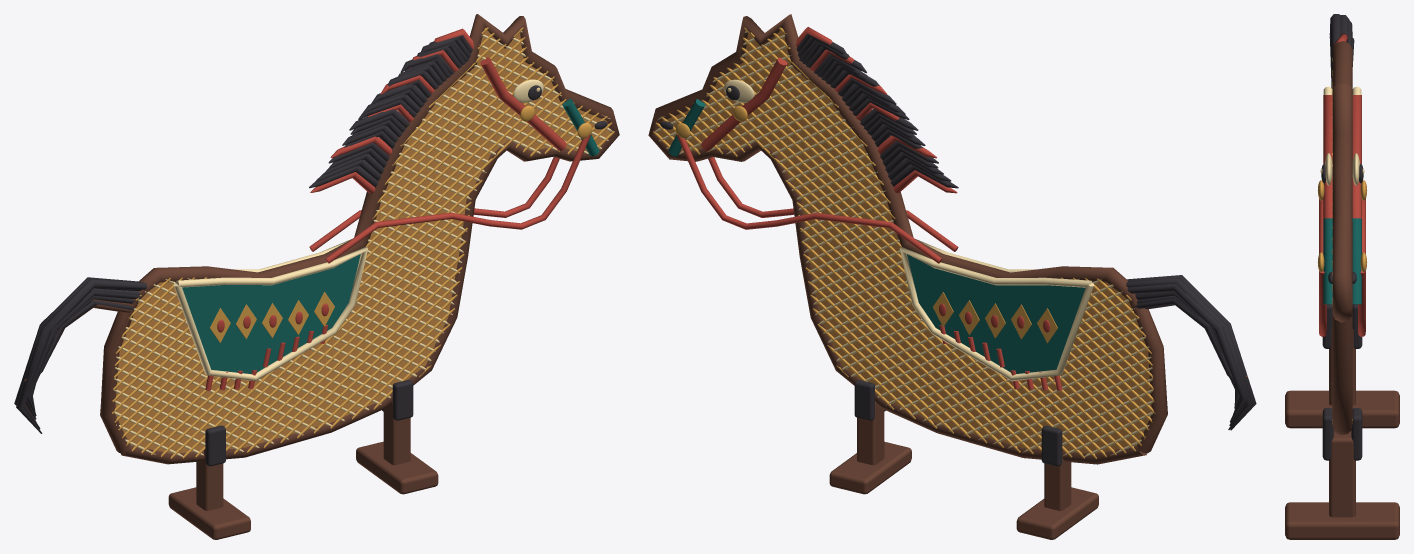
3 renders of one model, left to right at view 1: azimuth 30°, elevation 25°; view 2: azimuth 150°, elevation 25°; view 3: azimuth 270°, elevation 25°, orthographic. The views are drawn at different scales.
Visible parts, largest first — view 1: Woven horse, Plaited cane, Ceremonial tack, Mane and tail, Hardwood cradle; view 2: Woven horse, Plaited cane, Ceremonial tack, Mane and tail, Hardwood cradle; view 3: Hardwood cradle, Woven horse, Ceremonial tack, Mane and tail, Painted features, Plaited cane.
Boxes of the visible parts, x1=… form: Woven horse: x1=100, y1=14, x2=619, y2=464; Plaited cane: x1=112, y1=27, x2=614, y2=458; Ceremonial tack: x1=173, y1=57, x2=599, y2=390; Mane and tail: x1=14, y1=28, x2=473, y2=433; Hardwood cradle: x1=168, y1=380, x2=438, y2=539; Woven horse: x1=648, y1=14, x2=1167, y2=464; Plaited cane: x1=653, y1=27, x2=1155, y2=459; Ceremonial tack: x1=668, y1=57, x2=1093, y2=390; Mane and tail: x1=795, y1=27, x2=1256, y2=430; Hardwood cradle: x1=829, y1=380, x2=1098, y2=539; Hardwood cradle: x1=1285, y1=304, x2=1399, y2=539; Woven horse: x1=1332, y1=41, x2=1352, y2=434; Ceremonial tack: x1=1317, y1=86, x2=1367, y2=336; Mane and tail: x1=1329, y1=14, x2=1354, y2=88; Painted features: x1=1320, y1=153, x2=1364, y2=283; Plaited cane: x1=1332, y1=58, x2=1352, y2=423.
Size of the model in its own units: 1.48 by 1.03 by 0.2.
